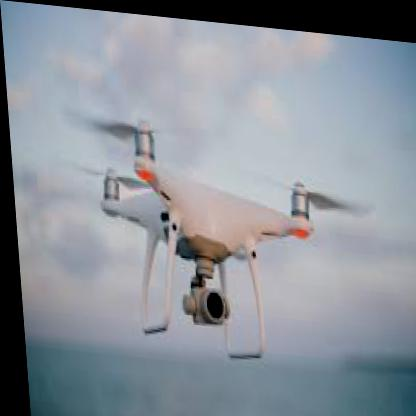UAS: (92, 112, 346, 363)
